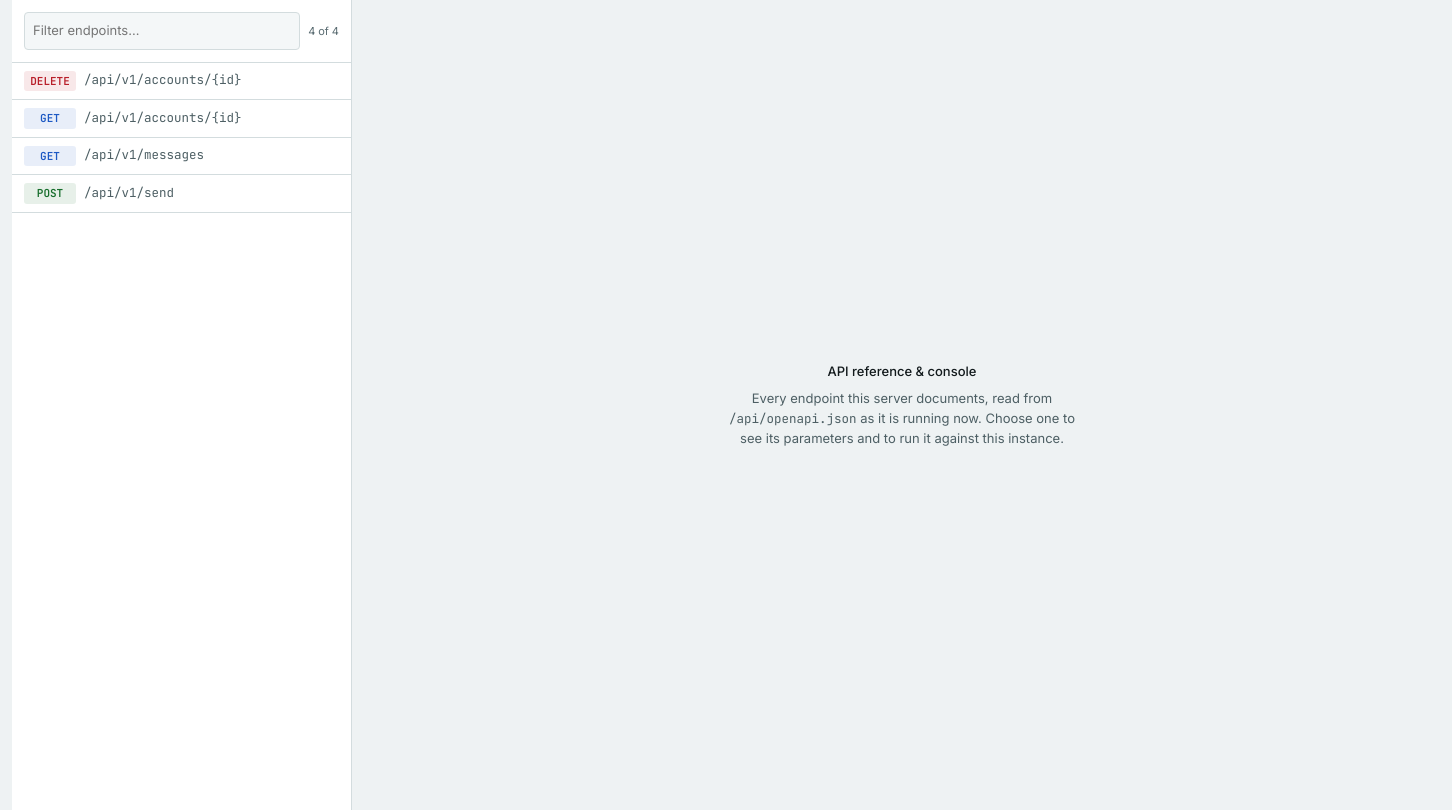
executing a request › distinguishes a network failure from a status code
Check: the text "4 of 4" is shown, box [308,22,339,39]
Click the text "/api/v1/messages": (144, 156) [84,146,204,165]
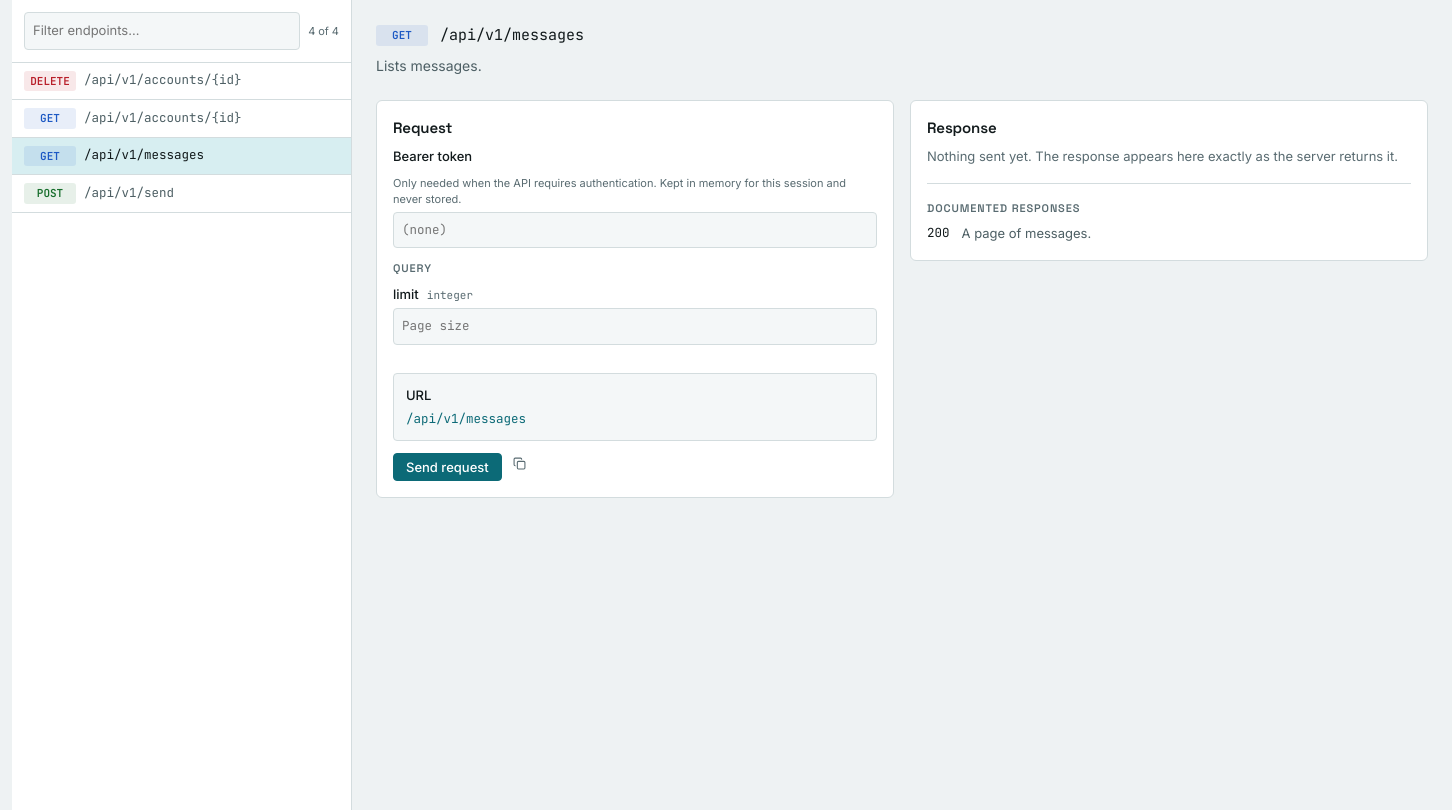
Click the button "Send request": (447, 467) [393,453,502,481]
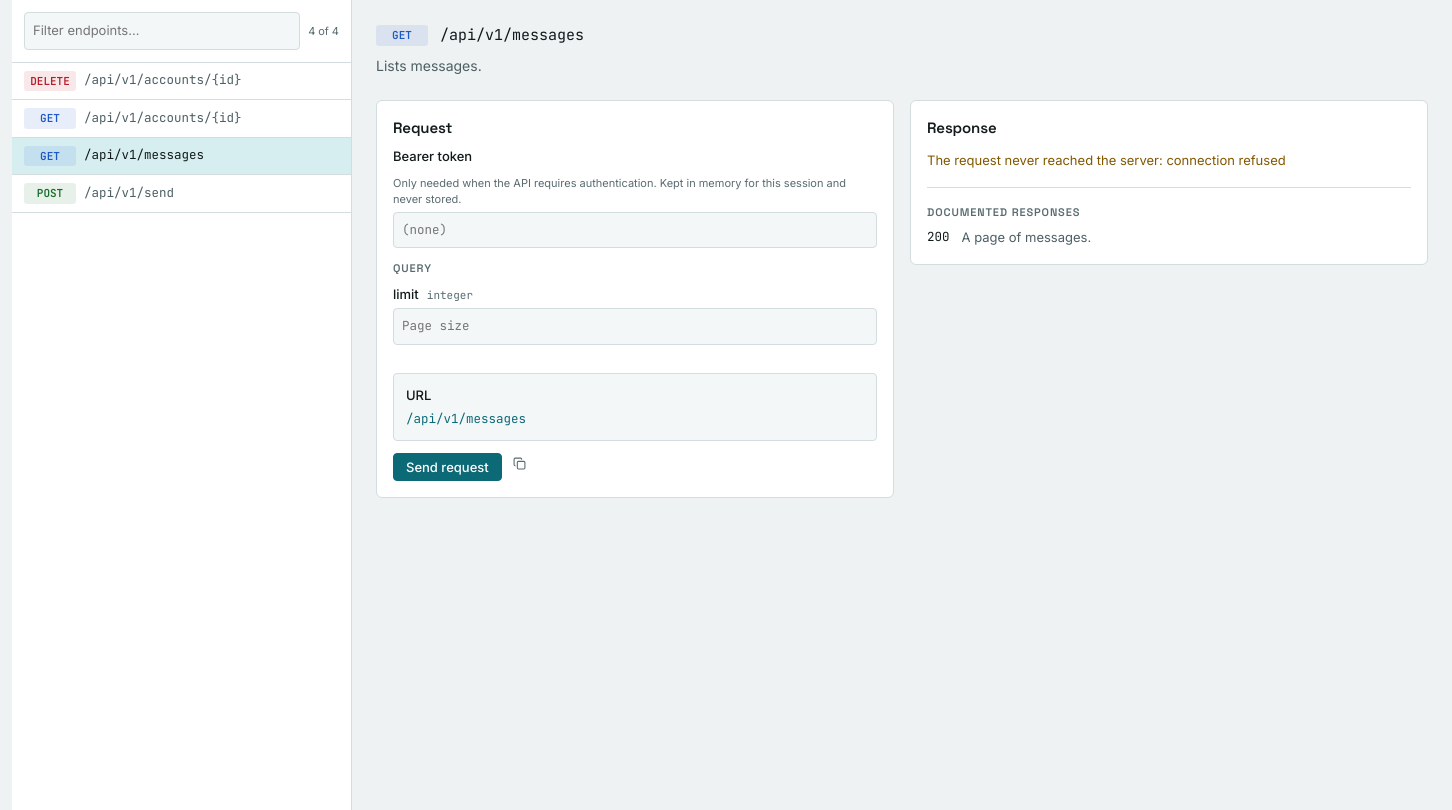
Check: the text "The request never reached the server: connection refused" is shown, box [927,152,1286,168]
